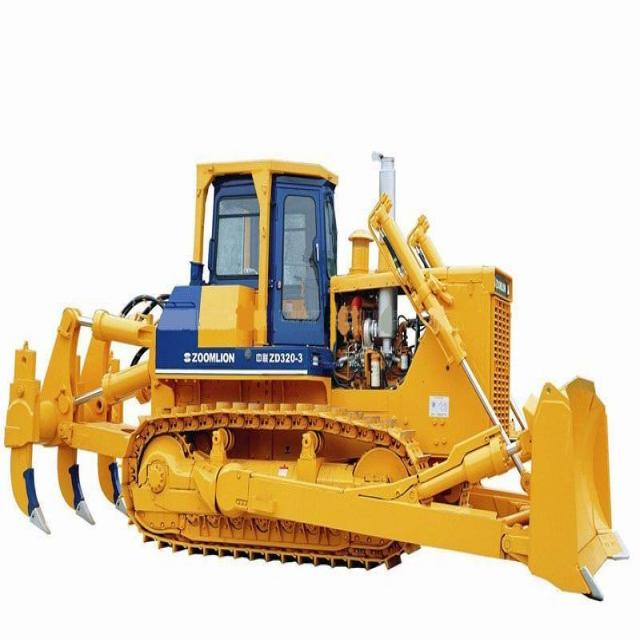Bulldozer: (5, 124, 638, 608)
